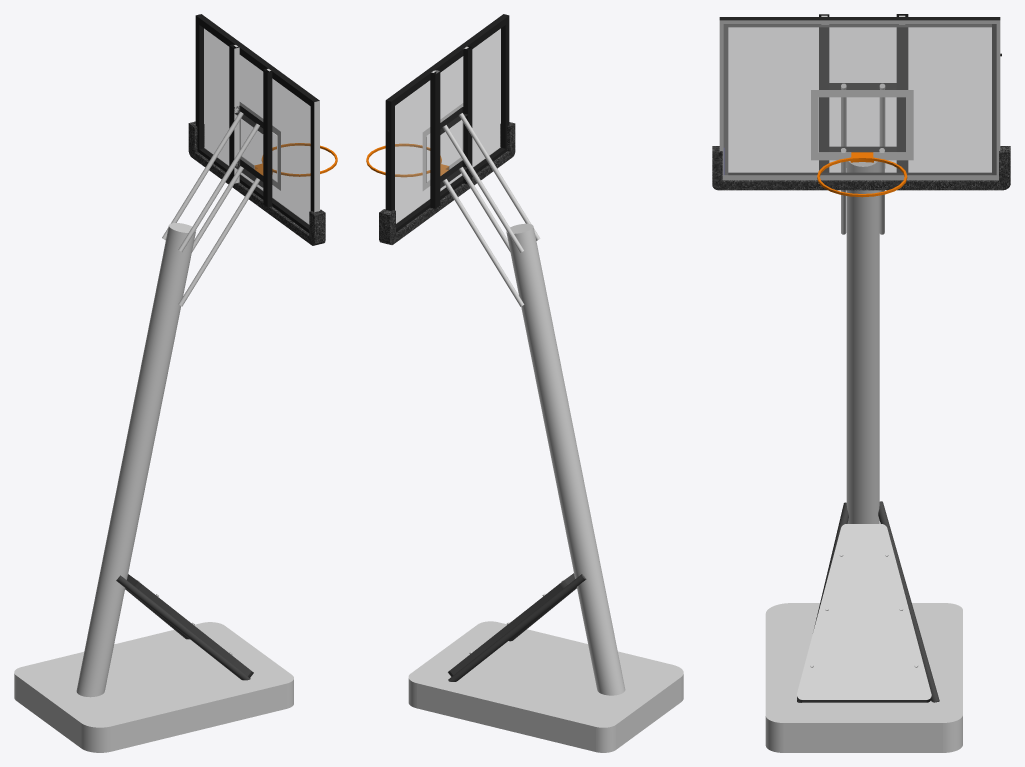
File: Basketball+Hoop.fbx
The picture shows the model from 3 angles, left to right: view 1: azimuth 30°, elevation 25°; view 2: azimuth 150°, elevation 25°; view 3: azimuth 270°, elevation 25°; orthographic projection. The views are drawn at different scales.
Visible parts, largest first — view 1: Group19, Group3, Group20, Group4, Group5, Group13, Group14, Group17; view 2: Group19, Group3, Group20, Group12, Group5, Group2, Group17, Group14; view 3: Group3, Group19, Group5, Group20, Group12.
Boxes of the visible parts, left/top/right/bottom form: Group19: left=14, top=622, right=293, bottom=752; Group3: left=188, top=14, right=337, bottom=245; Group20: left=76, top=223, right=196, bottom=697; Group4: left=116, top=575, right=250, bottom=680; Group5: left=127, top=574, right=253, bottom=677; Group13: left=178, top=178, right=260, bottom=306; Group14: left=178, top=123, right=259, bottom=251; Group17: left=162, top=111, right=243, bottom=240; Group19: left=408, top=621, right=683, bottom=752; Group3: left=366, top=14, right=515, bottom=244; Group20: left=506, top=223, right=625, bottom=695; Group12: left=448, top=574, right=586, bottom=681; Group5: left=448, top=573, right=574, bottom=676; Group2: left=443, top=179, right=524, bottom=306; Group17: left=442, top=125, right=523, bottom=252; Group14: left=459, top=113, right=540, bottom=240; Group3: left=712, top=14, right=1010, bottom=197; Group19: left=765, top=603, right=962, bottom=752; Group5: left=797, top=524, right=931, bottom=702; Group20: left=846, top=161, right=879, bottom=523; Group12: left=878, top=501, right=939, bottom=702.
Size of the model in its own units: 69.78 by 147 by 54.16.
